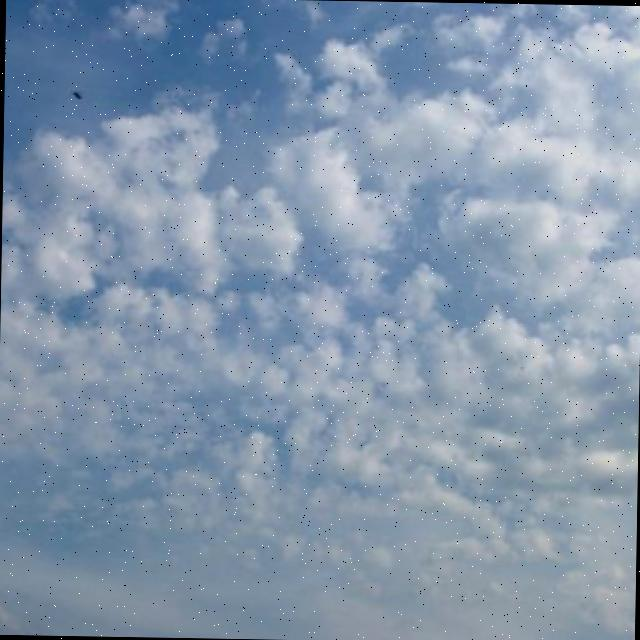Ac: (1, 26, 640, 577)
